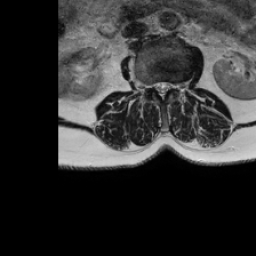CCS_normal: (159, 76, 164, 103)
LFS_normal: (171, 74, 179, 95)
LLS_normal: (164, 75, 171, 96)
RFS_stenosis: (146, 75, 152, 95)
RLS_normal: (152, 76, 159, 96)
